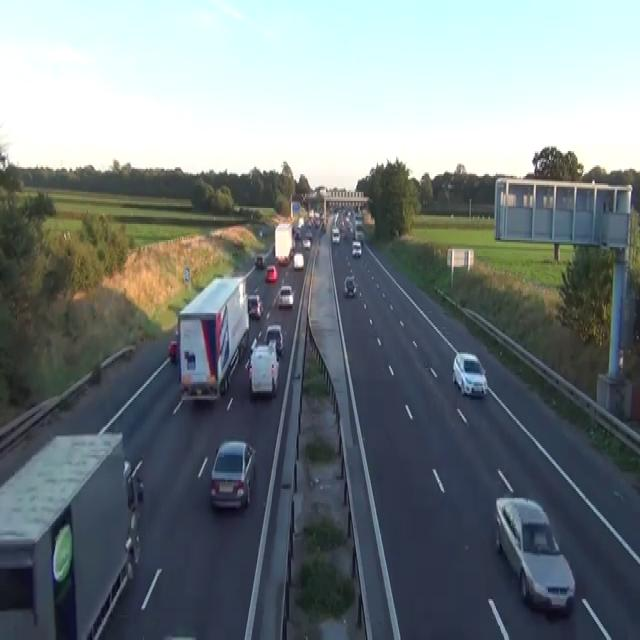Car: (494, 496, 575, 615), (209, 439, 256, 510), (452, 352, 488, 396), (52, 523, 73, 581), (123, 459, 143, 510), (125, 510, 140, 566), (264, 324, 283, 356), (244, 336, 258, 372), (163, 626, 198, 638), (277, 284, 294, 308), (247, 294, 263, 318), (343, 275, 356, 297), (265, 263, 278, 283), (167, 340, 177, 362), (91, 363, 101, 384), (123, 458, 131, 482), (351, 240, 361, 258), (293, 252, 304, 268), (163, 633, 197, 638), (331, 226, 340, 243), (254, 254, 264, 268), (244, 354, 251, 373), (278, 254, 289, 265), (302, 236, 311, 249), (355, 229, 364, 242), (250, 336, 256, 352), (293, 226, 300, 238), (259, 226, 267, 236), (304, 228, 312, 238), (298, 217, 304, 226), (232, 247, 238, 256), (321, 222, 326, 231), (259, 230, 263, 237)
Truck: (0, 430, 139, 638), (176, 274, 249, 398), (248, 336, 279, 396), (274, 220, 295, 265)
